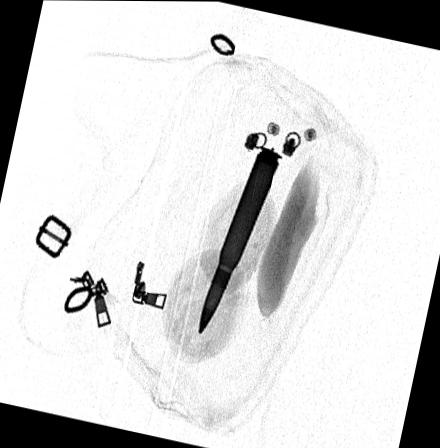Bullet: (198, 143, 284, 337)
